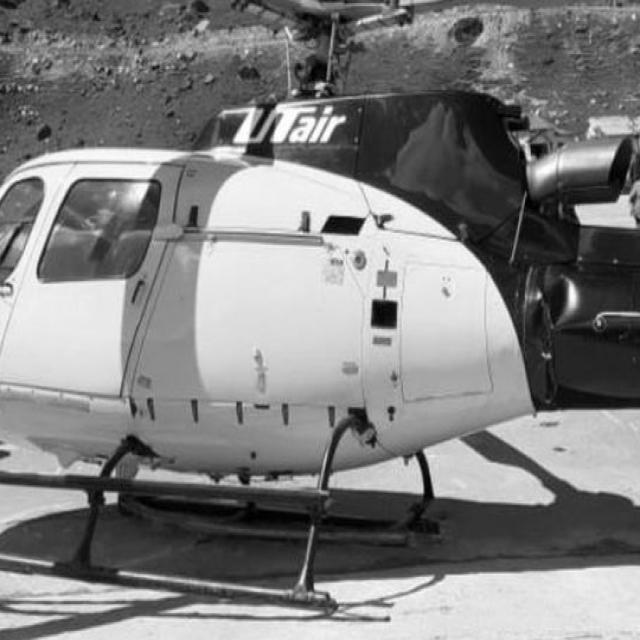helicopter: (1, 1, 640, 606)
